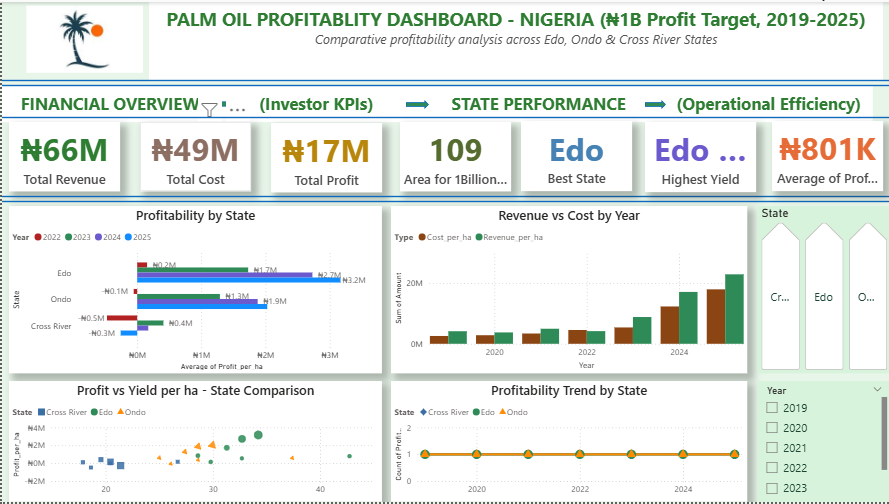

Layout of this report page (visuals, bound fields, positions):
{"tool":"powerbi","page":{"name":"Dashboard","canvas":[1280,720],"ordinal":0},"visuals":[{"type":"textbox","box":[211.4,0,1057.1,114.3],"z":0},{"type":"textbox","box":[0,121,1254.2,51.8],"z":1000},{"type":"shape","box":[306.7,139.7,33.1,14.4],"z":2000},{"type":"card","fields":{"Values":["Sum(Table1.Revenue_per_ha)"]},"box":[10.1,172.8,160,100],"z":3000},{"type":"card","fields":{"Values":["Sum(Table1.Cost_per_ha)"]},"box":[198.6,172.9,160,100],"z":4000},{"type":"card","fields":{"Values":["Sum(Table1.Profit_per_ha)"]},"box":[387.1,174.3,160,100],"z":5000},{"type":"card","fields":{"Values":["Min(Table1.Required_area_1Billion)"]},"box":[572.9,172.9,160,100],"z":6000},{"type":"shape","box":[581.8,141.1,33.1,13],"z":7000},{"type":"shape","box":[0,159.8,1280.2,13],"z":8000},{"type":"shape","box":[0,113.8,1280.2,13],"z":9000},{"type":"shape","box":[0,273.6,1280.2,13],"z":10000},{"type":"card","fields":{"Values":["Table1.Best State"]},"box":[747.1,171.4,160,101.4],"z":11000},{"type":"card","fields":{"Values":["Table1.Highest Yield"]},"box":[925.9,172.8,159.8,100.8],"z":12000},{"type":"shape","box":[925.9,141.1,30.2,13],"z":13000},{"type":"shape","box":[0,280.8,1280.2,13],"z":14000},{"type":"shape","box":[0,106.6,1280.2,13],"z":15000},{"type":"card","fields":{"Values":["Avg(Table1.Profit_per_ha)"]},"box":[1108.8,171.4,159.8,100.8],"z":16000},{"type":"clusteredBarChart","title":"Profitability by State","fields":{"Category":["Table1.State"],"Y":["Avg(Table1.Profit_per_ha)"],"Series":["Table1.Year"]},"box":[10,294.3,537.1,241.4],"z":17000},{"type":"clusteredColumnChart","title":"Revenue vs Cost by Year","fields":{"Y":["Sum(Revenue_Cost_View.Amount)"],"Series":["Revenue_Cost_View.Type"],"Category":["Revenue_Cost_View.Year"]},"box":[560,294.3,512.9,241.4],"z":18000},{"type":"scatterChart","title":"Profit vs Yield per ha - State Comparison","fields":{"X":["Table1.Yield_t_ha "],"Y":["Table1.Profit_per_ha"],"Size":["Sum(Table1.Revenue_per_ha)"],"Series":["Table1.State"]},"box":[10,545.7,537.1,174.3],"z":19000},{"type":"lineChart","title":"Profitability Trend by State","fields":{"Y":["CountNonNull(Table1.Profit_per_ha)"],"Category":["Table1.Year"],"Series":["Table1.State"]},"box":[560,545.7,512.9,174.3],"z":20000},{"type":"advancedSlicerVisual","fields":{"Values":["Table1.State"]},"box":[1088.6,294.3,191.4,241.4],"z":21000},{"type":"slicer","fields":{"Values":["Table1.Year"]},"box":[1088.6,545.7,191.4,174.3],"z":22000},{"type":"image","box":[0,0,237.1,107.1],"z":23000}]}

Visuals, with their boxes in screenshot pixels (x1, y1, x2, y2), scaled from the page's 1280x720 canvas onto the 889x504 screenshot:
textbox: x1=147, y1=0, x2=881, y2=80
textbox: x1=0, y1=85, x2=871, y2=121
shape: x1=213, y1=98, x2=236, y2=108
card - Sum(Table1.Revenue_per_ha): x1=7, y1=121, x2=118, y2=191
card - Sum(Table1.Cost_per_ha): x1=138, y1=121, x2=249, y2=191
card - Sum(Table1.Profit_per_ha): x1=269, y1=122, x2=380, y2=192
card - Min(Table1.Required_area_1Billion): x1=398, y1=121, x2=509, y2=191
shape: x1=404, y1=99, x2=427, y2=108
shape: x1=0, y1=112, x2=888, y2=121
shape: x1=0, y1=80, x2=888, y2=89
shape: x1=0, y1=192, x2=888, y2=201
card - Table1.Best State: x1=519, y1=120, x2=630, y2=191
card - Table1.Highest Yield: x1=643, y1=121, x2=754, y2=192
shape: x1=643, y1=99, x2=664, y2=108
shape: x1=0, y1=197, x2=888, y2=206
shape: x1=0, y1=75, x2=888, y2=84
card - Avg(Table1.Profit_per_ha): x1=770, y1=120, x2=881, y2=191
"Profitability by State" clusteredBarChart: x1=7, y1=206, x2=380, y2=375
"Revenue vs Cost by Year" clusteredColumnChart: x1=389, y1=206, x2=745, y2=375
"Profit vs Yield per ha - State Comparison" scatterChart: x1=7, y1=382, x2=380, y2=503
"Profitability Trend by State" lineChart: x1=389, y1=382, x2=745, y2=503
advancedSlicerVisual - Table1.State: x1=756, y1=206, x2=888, y2=375
slicer - Table1.Year: x1=756, y1=382, x2=888, y2=503
image: x1=0, y1=0, x2=165, y2=75
